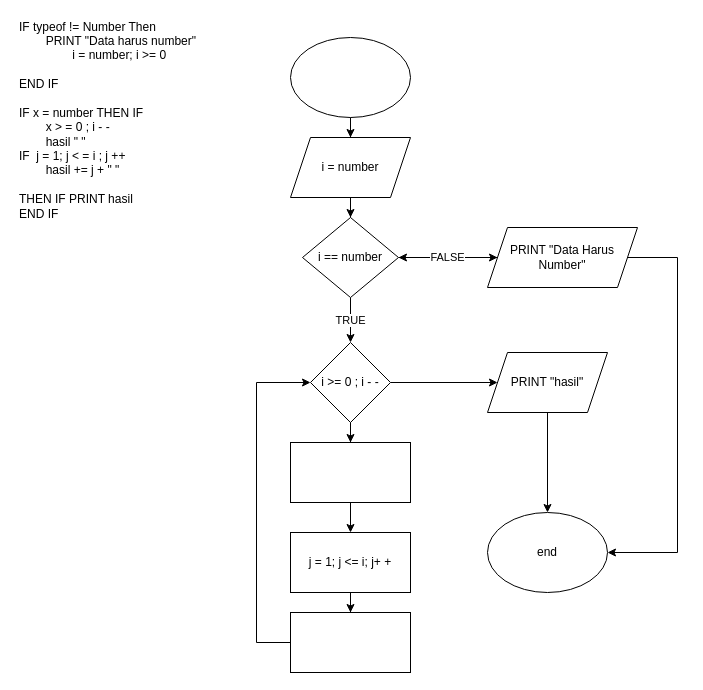
Some shapes in this 703 by 690 pixel diagram are drawn without their labels. The shapes that lost their labels are listed below. From the top down, each one's centre as x and y in pixels, then its label:
point 350,77: start
point 350,472: result " "
point 350,642: result += j + " "
